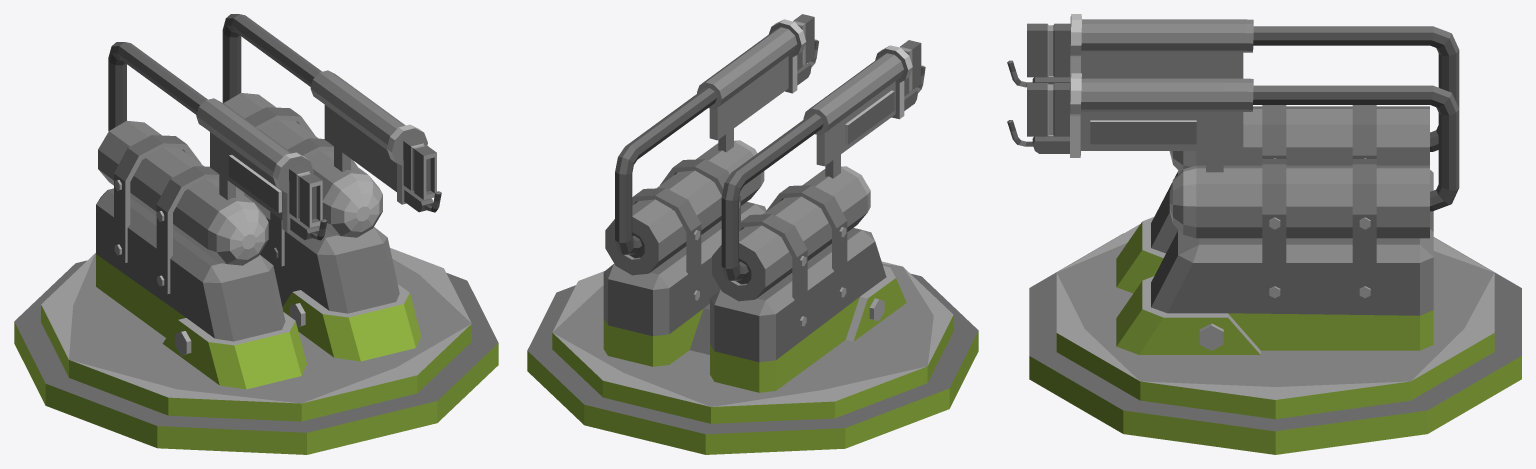
File: tower_napalm_green_1.fbx
3 views of the same model, side by side, from view 1: azimuth 30°, elevation 25°; view 2: azimuth 150°, elevation 25°; view 3: azimuth 270°, elevation 25° (orthographic). The views are drawn at different scales.
Parts seen in each view (by area): view 1: top_napalm_green_1, tower_napalm_green_1; view 2: top_napalm_green_1, tower_napalm_green_1; view 3: top_napalm_green_1, tower_napalm_green_1.
Boxes of the visible parts, x1=… form: top_napalm_green_1: x1=96, y1=14, x2=441, y2=389; tower_napalm_green_1: x1=14, y1=248, x2=498, y2=454; top_napalm_green_1: x1=603, y1=14, x2=925, y2=392; tower_napalm_green_1: x1=527, y1=261, x2=978, y2=454; top_napalm_green_1: x1=1007, y1=14, x2=1459, y2=354; tower_napalm_green_1: x1=1029, y1=224, x2=1521, y2=454.
Size of the model in its own units: 170 by 109 by 169.
